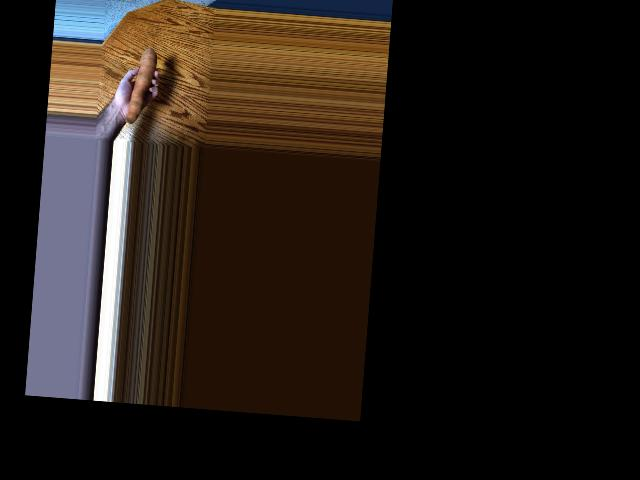sweet_potato: (123, 42, 162, 121)
